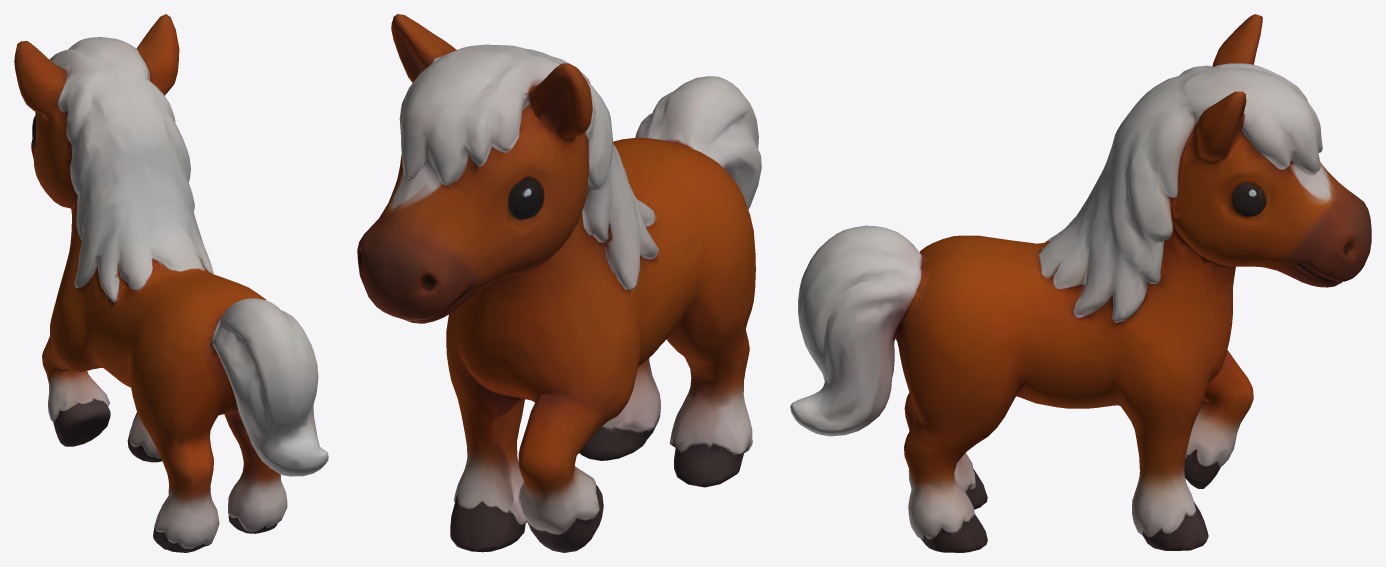
Rendered from hyrule_knight_epona.glb.
3 renders of one model, left to right at view 1: azimuth 30°, elevation 25°; view 2: azimuth 150°, elevation 25°; view 3: azimuth 270°, elevation 25°, orthographic. The views are drawn at different scales.
Visible parts, largest first — view 1: tripo_node_d34fc60e-7869-4b9f-8063-54ba37827c33; view 2: tripo_node_d34fc60e-7869-4b9f-8063-54ba37827c33; view 3: tripo_node_d34fc60e-7869-4b9f-8063-54ba37827c33.
Part boxes in pixels (bbox=[...]): tripo_node_d34fc60e-7869-4b9f-8063-54ba37827c33: bbox=[14, 14, 328, 552]; tripo_node_d34fc60e-7869-4b9f-8063-54ba37827c33: bbox=[357, 14, 761, 552]; tripo_node_d34fc60e-7869-4b9f-8063-54ba37827c33: bbox=[790, 14, 1371, 552].
Size of the model in its own units: 0.3312 by 0.858 by 0.9494.
1 material, 1 textured.
